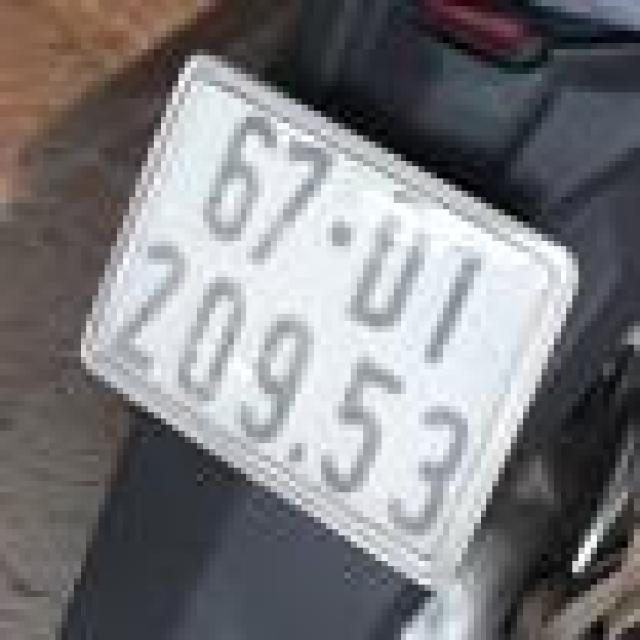0: (164, 263, 261, 418)
1: (407, 220, 515, 379)
2: (103, 229, 207, 382)
3: (371, 386, 489, 552)
5: (306, 343, 418, 507)
6: (185, 97, 293, 257)
7: (235, 131, 356, 291)
9: (228, 300, 330, 459)
D: (334, 175, 459, 341)
